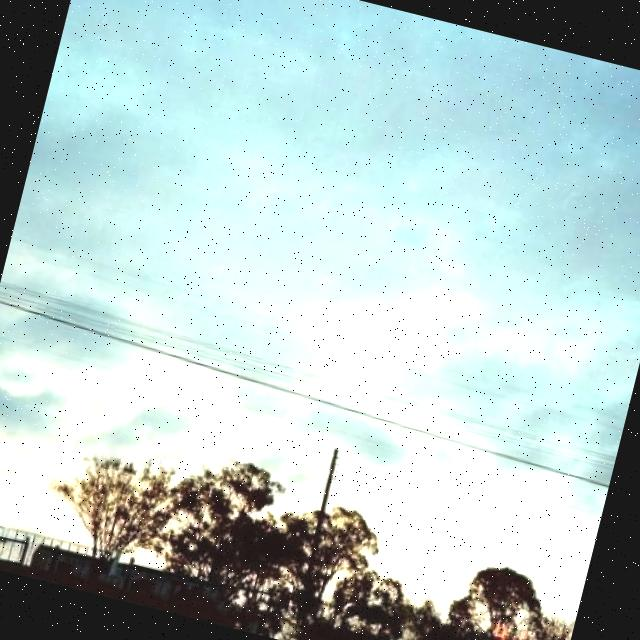Sc: (5, 1, 640, 419)
